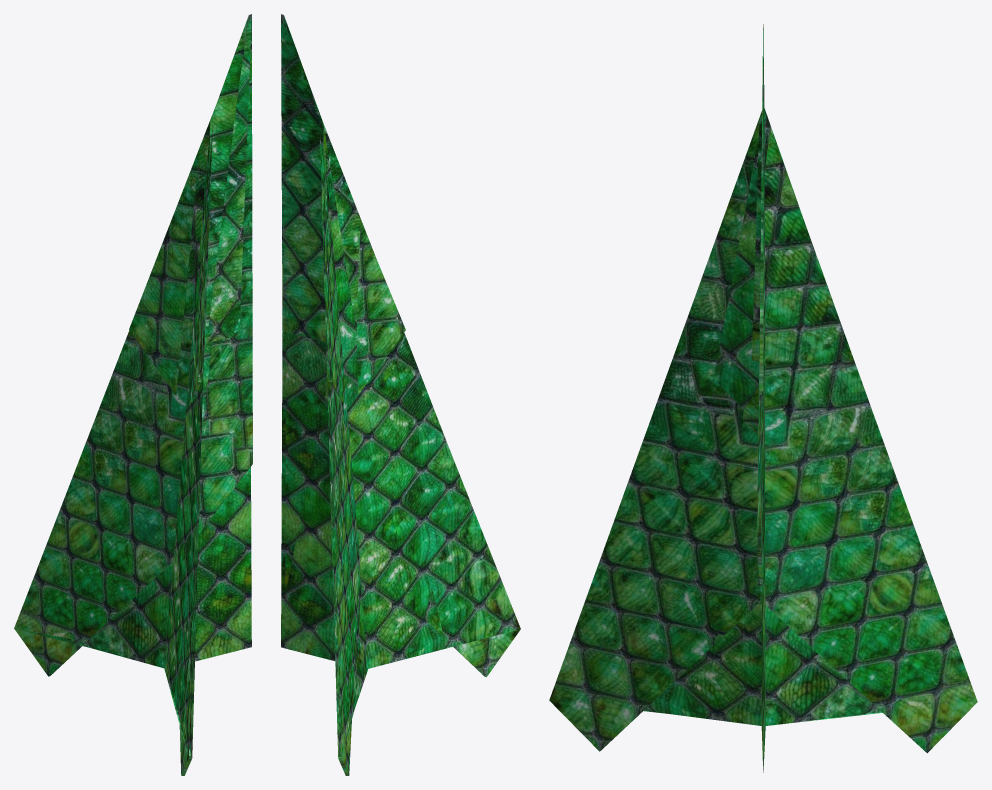
The picture shows the model from 3 angles, left to right: view 1: azimuth 30°, elevation 25°; view 2: azimuth 150°, elevation 25°; view 3: azimuth 270°, elevation 25°; orthographic projection. The views are drawn at different scales.
Parts seen in each view (by area): view 1: Origami_Model_41.001; view 2: Origami_Model_41.001; view 3: Origami_Model_41.001.
Part boxes in pixels (box(x1,y1,x2,y2)): Origami_Model_41.001: box(14, 14, 252, 775); Origami_Model_41.001: box(281, 14, 520, 775); Origami_Model_41.001: box(549, 24, 977, 772).
Bounding box in the file's own units: 0.0501 × 0.2146 × 0.1021.
Materials: 1 (1 with a texture image).
